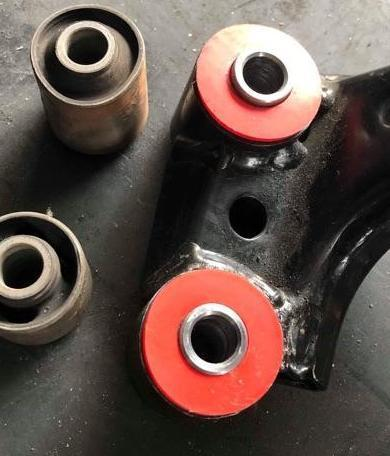hole: (179, 305, 246, 372), (237, 49, 290, 102)
